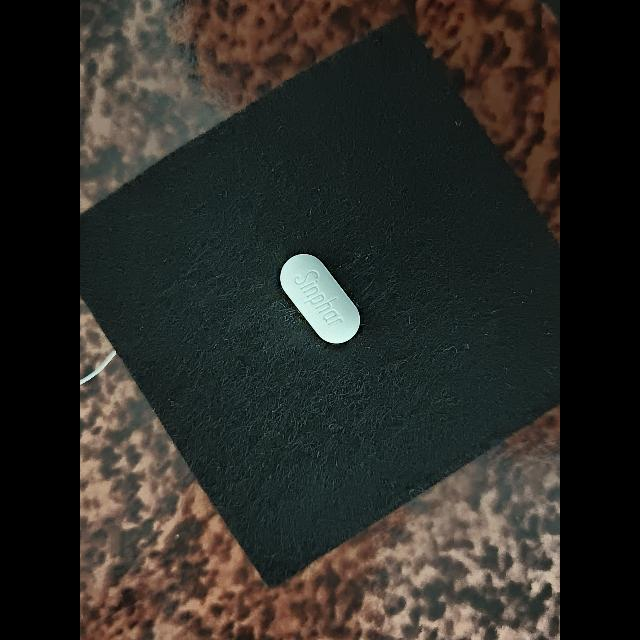Intact Pill: (280, 254, 360, 344)
